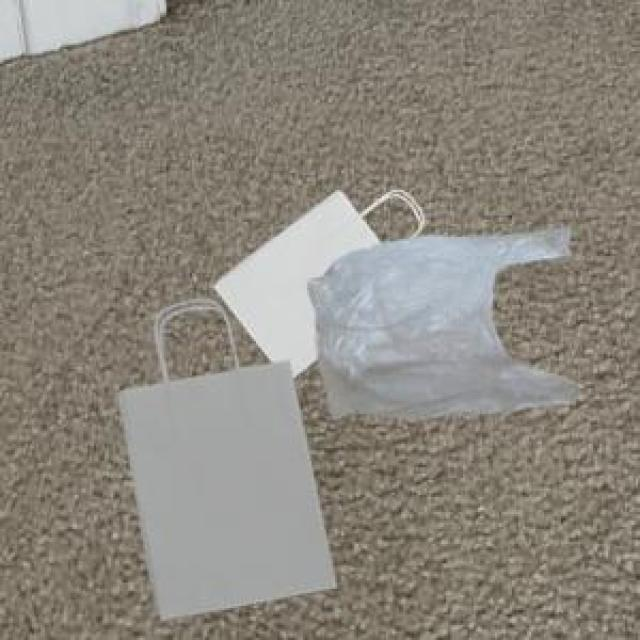paper: (115, 294, 333, 617), (209, 188, 385, 373)
